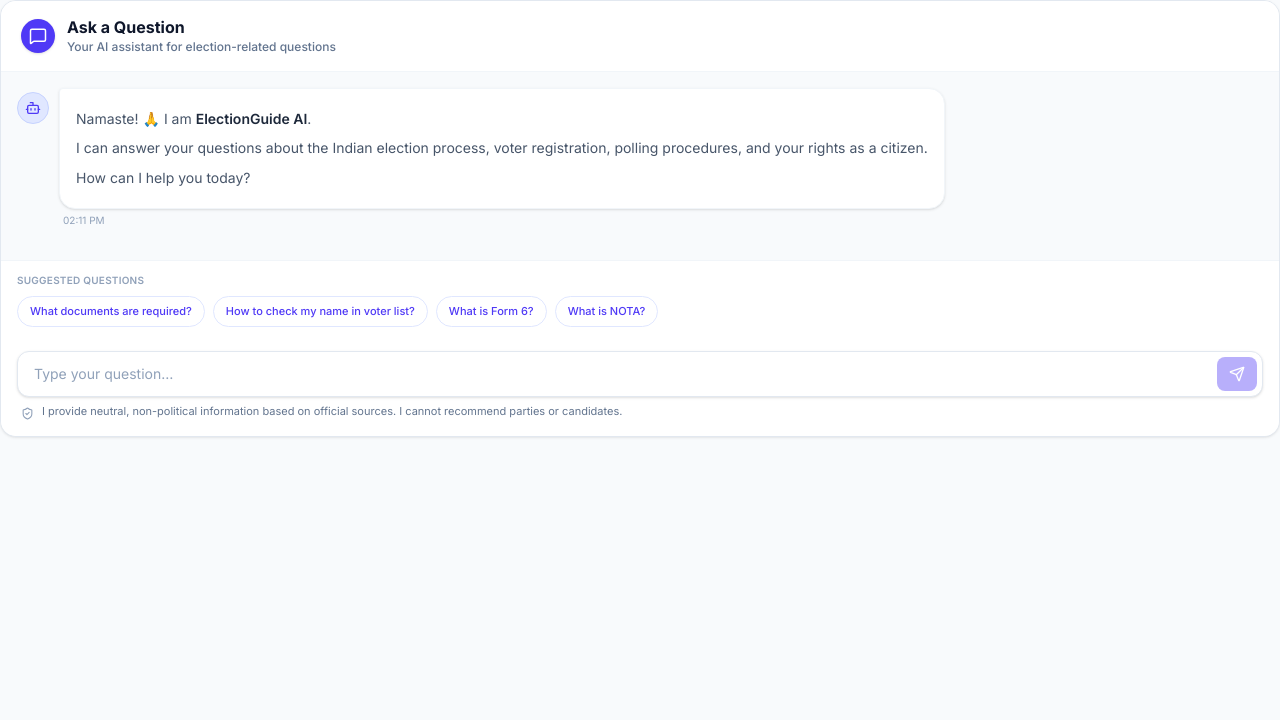
AskAi Component › Structured answer for voter registration › shows the helpful links section in structured answer
Step 1. Type "How to register as a voter?" into the field with test id "chat-input" → (640, 374), box [17, 351, 1263, 397]
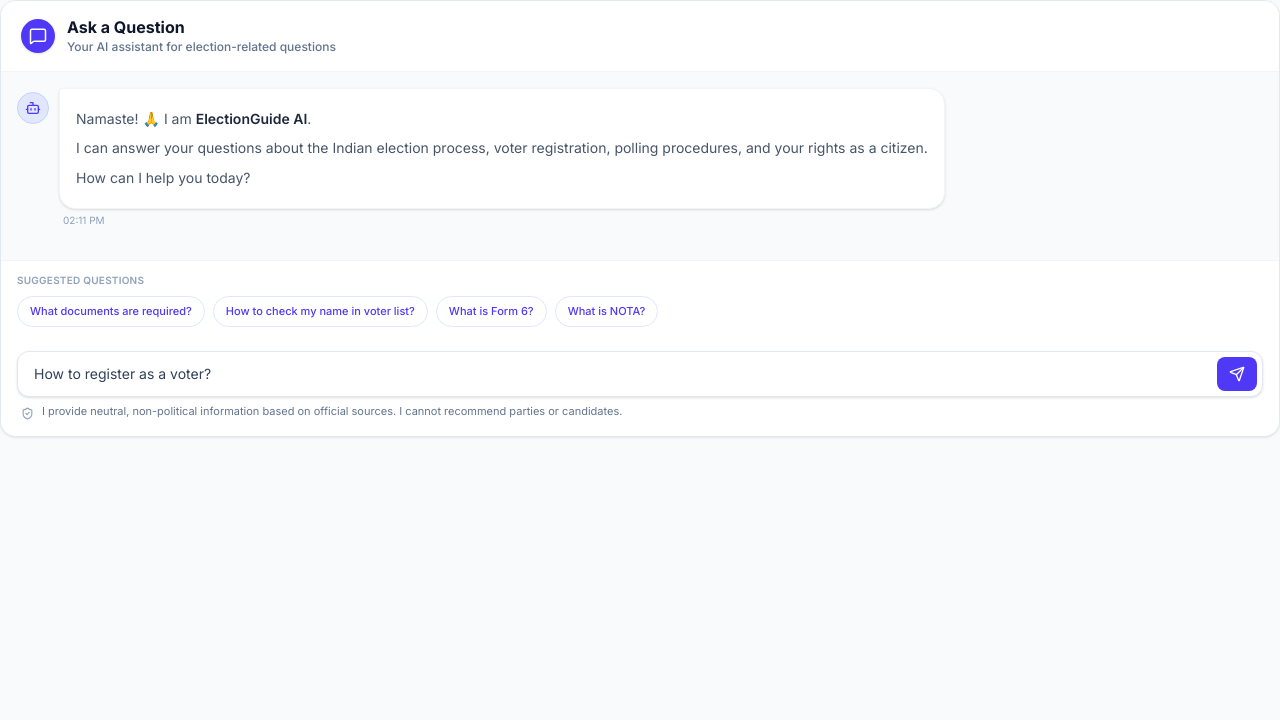
Step 2. Submit the form with test id "chat-form", box [17, 351, 1263, 397]
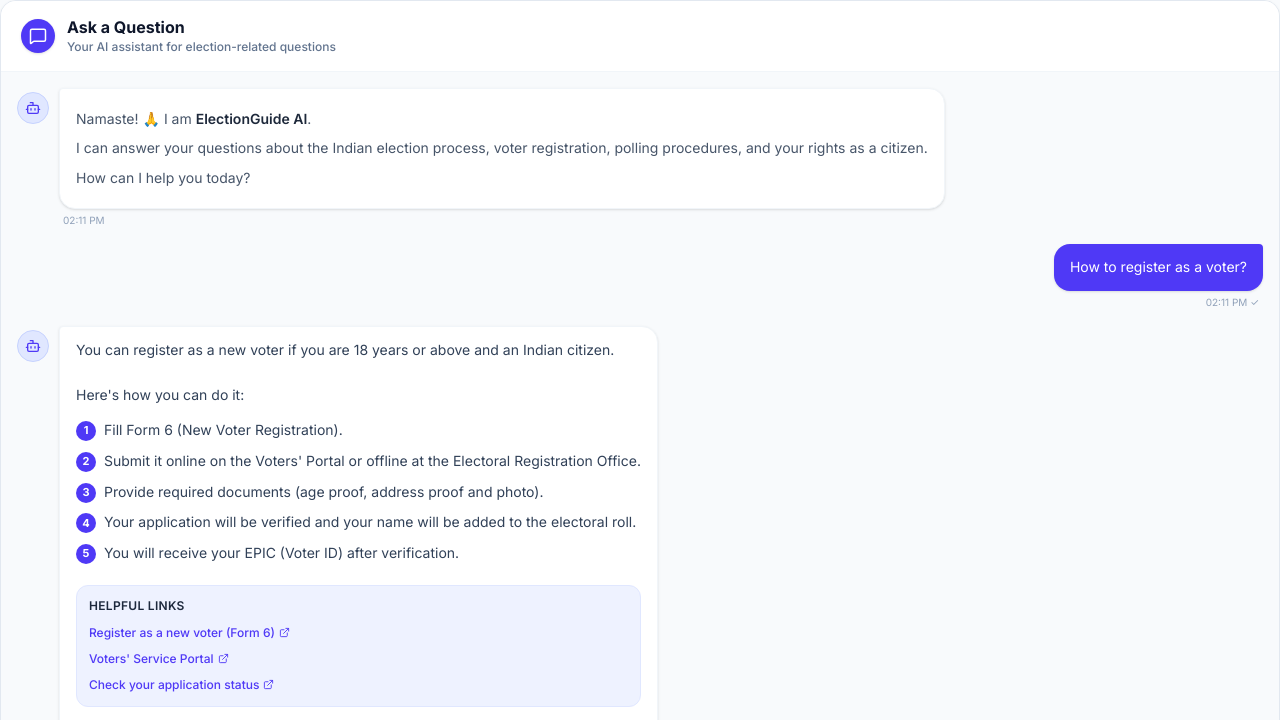
Check: the text "Helpful Links" is shown, box [89, 598, 185, 613]
